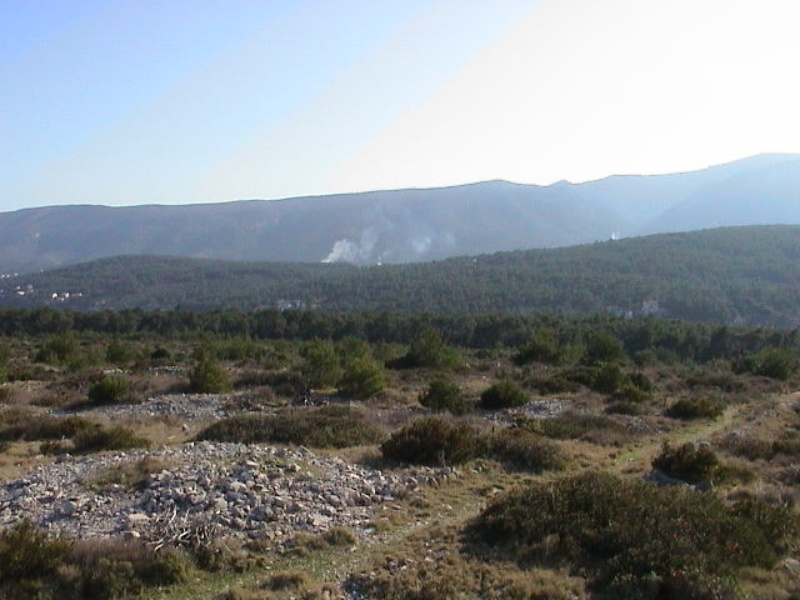smoke: (321, 233, 418, 267)
